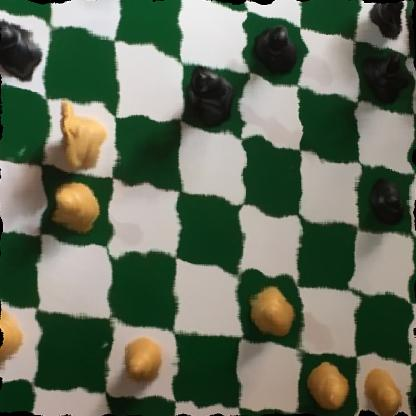black-bishop: (356, 39, 406, 103)
black-king: (178, 57, 237, 129)
black-knight: (366, 0, 408, 53)
black-pawn: (0, 13, 47, 81), (252, 18, 297, 78), (364, 176, 409, 229), (413, 51, 416, 109)
black-rook: (403, 0, 416, 64)
white-king: (238, 413, 292, 416)
white-knight: (46, 92, 112, 175)
white-pawn: (47, 171, 101, 239), (117, 336, 168, 393), (249, 273, 293, 339), (298, 361, 348, 416), (362, 363, 408, 416), (0, 298, 28, 367)
